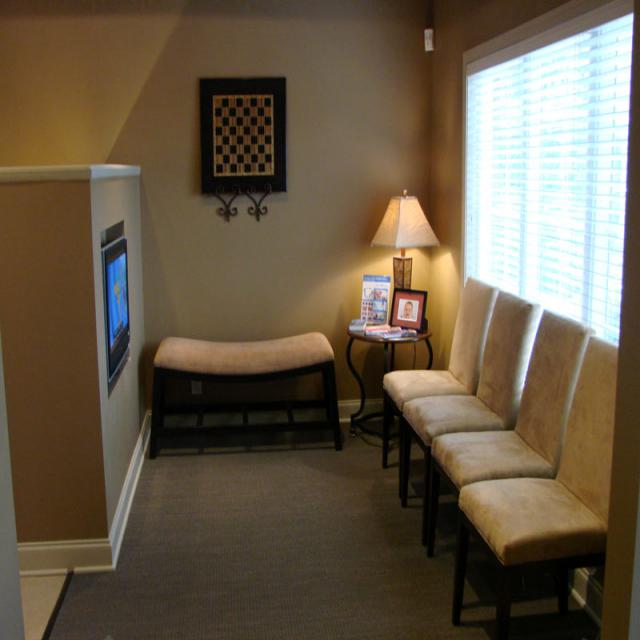TV: (189, 246, 243, 398)
floor -X: (40, 424, 640, 640)
picture crop: (369, 77, 531, 201)
seat crop: (280, 345, 639, 477)
wall clock: (0, 173, 210, 602), (164, 173, 283, 594), (1, 351, 44, 640)
